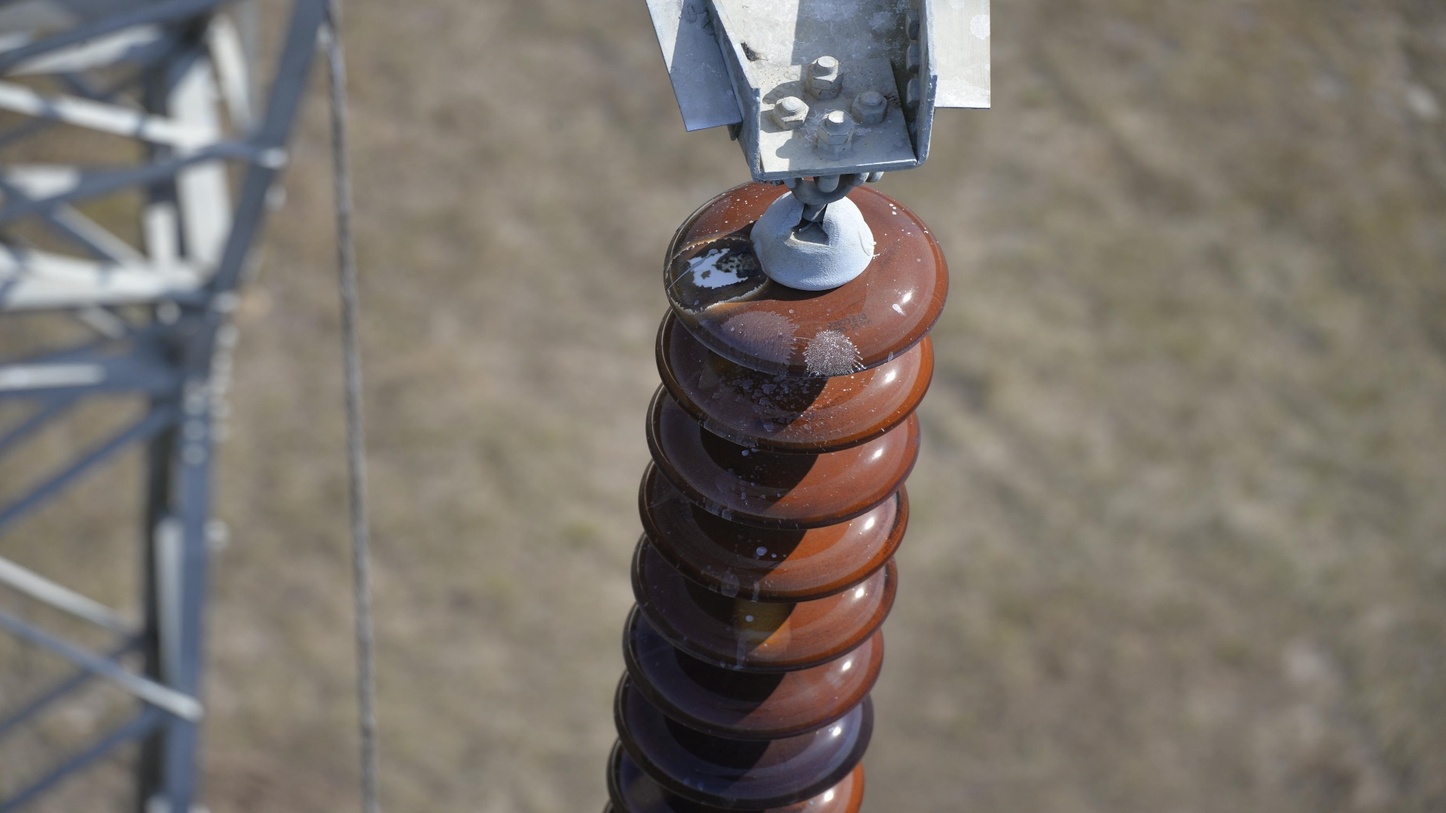insulator: (593, 175, 954, 813)
